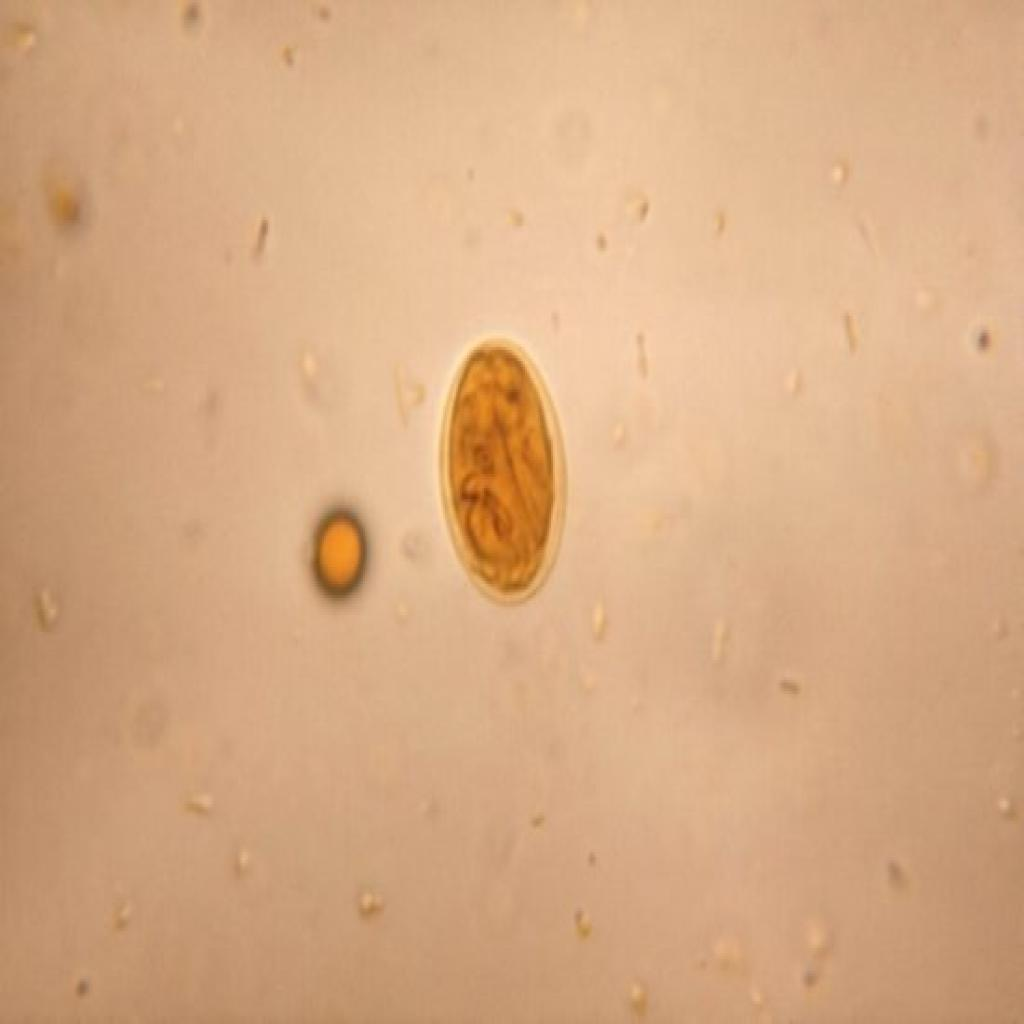Giardia: (434, 324, 573, 610)
